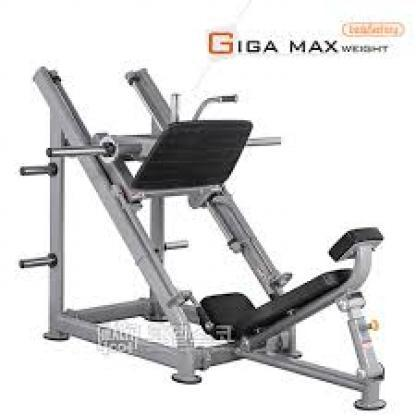leg press: (13, 48, 414, 416)
